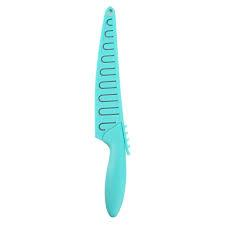Knife: (93, 5, 130, 217)
